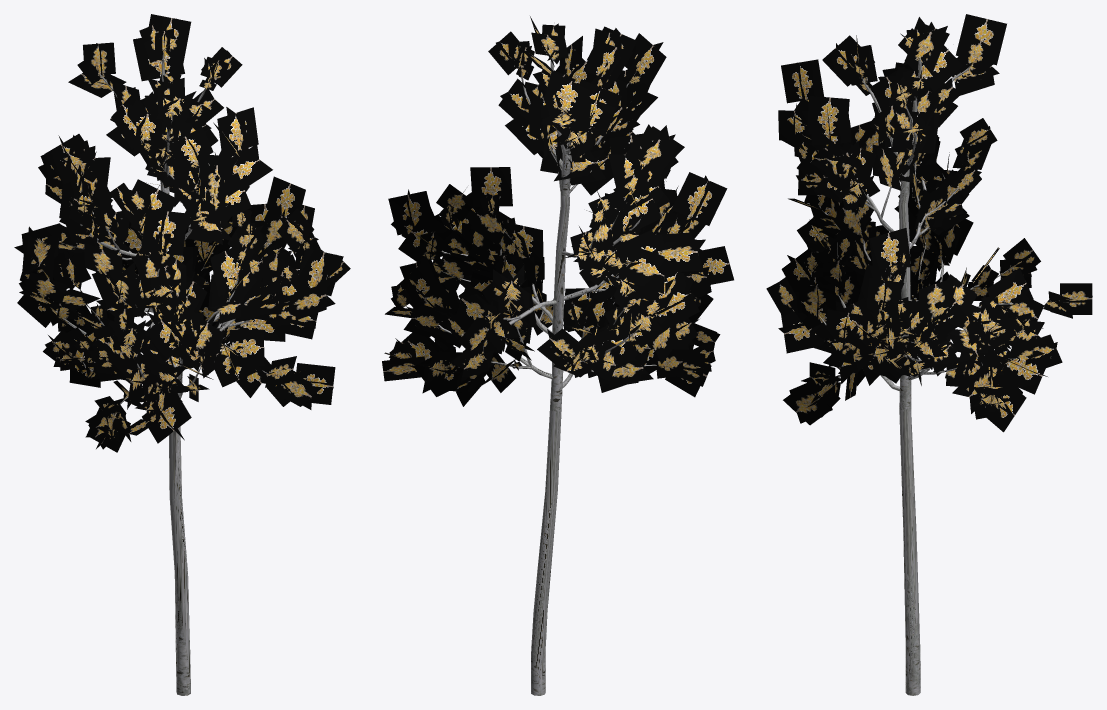
The model's file is tree_aspen_a_lod0.glb.
3 renders of one model, left to right at view 1: azimuth 30°, elevation 25°; view 2: azimuth 150°, elevation 25°; view 3: azimuth 270°, elevation 25°, orthographic. The views are drawn at different scales.
Parts seen in each view (by area): view 1: aspen_a; view 2: aspen_a; view 3: aspen_a.
Boxes of the visible parts, x1,y1,x2,y2 form: aspen_a: [14, 14, 350, 695]; aspen_a: [382, 16, 733, 695]; aspen_a: [766, 14, 1092, 695].
Bounding box in the file's own units: 5.53 × 12 × 5.31.
Materials: 2 (2 with a texture image).
